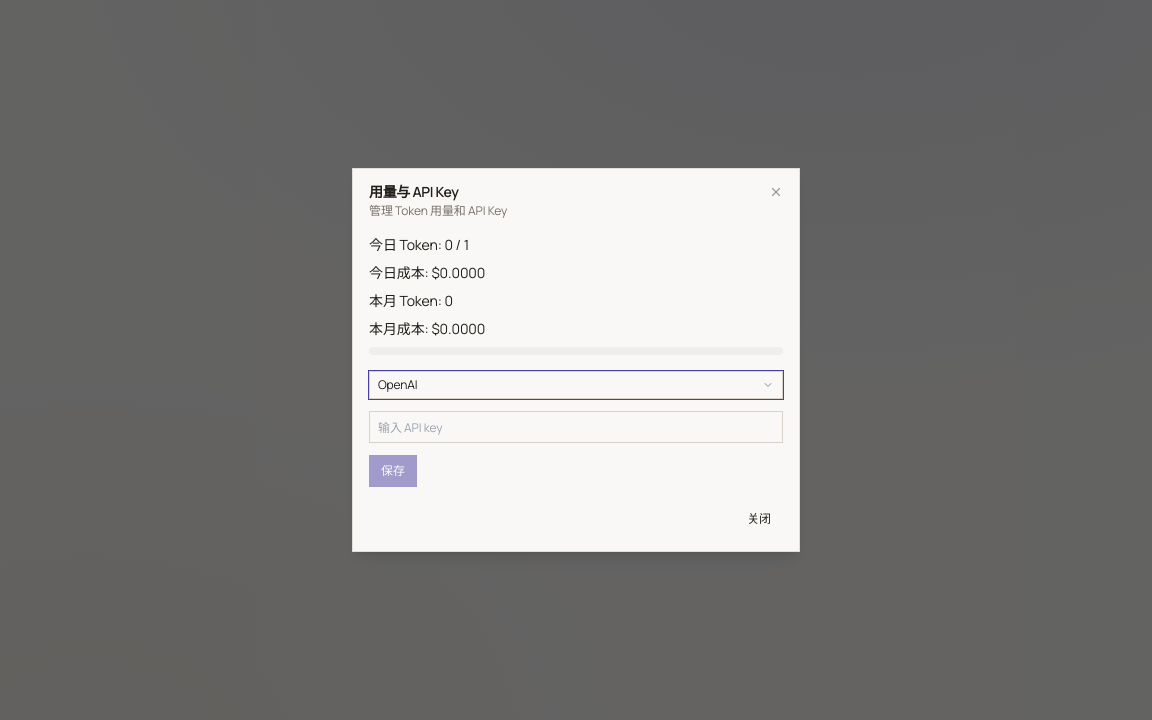
UsageDialog › displays an error when saving an API key fails
Expected: the dropdown is shown, [369,371,783,399]
Type "sk-test" into the password field with placeholder "输入 API key" at (576, 427), box [369,411,783,443]
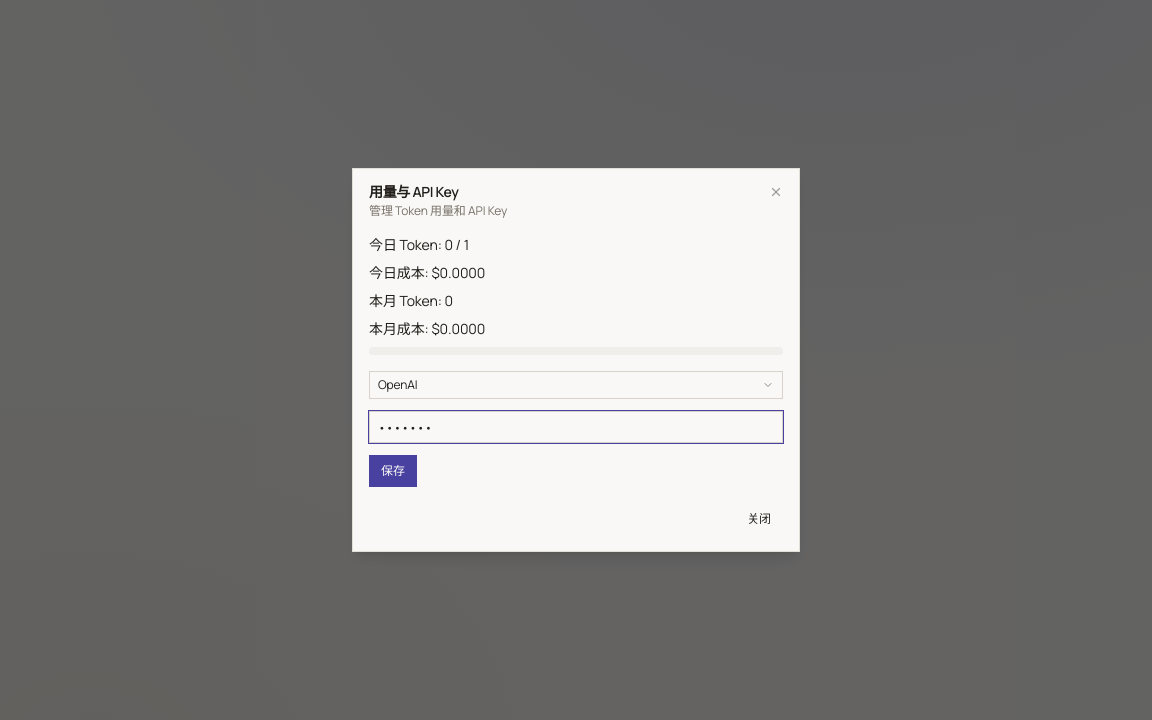
Click the button "保存" at (393, 471), box [369,455,417,487]
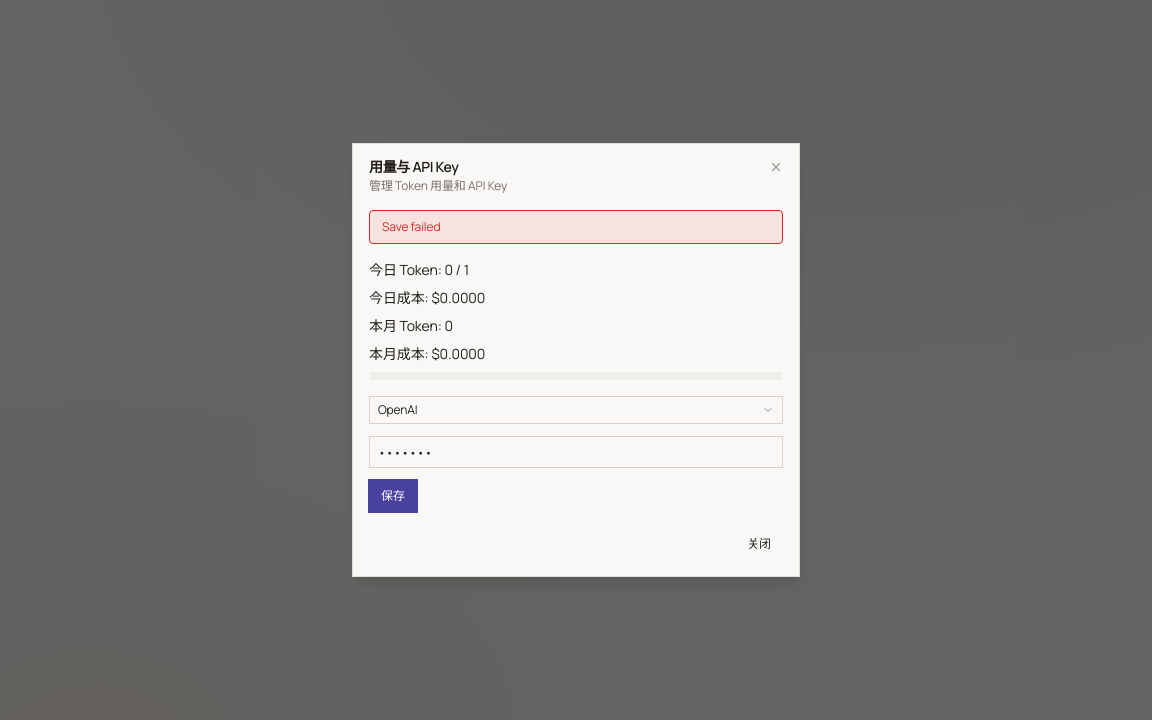
Result: the text "Save failed" is shown at [369,210,783,244]
